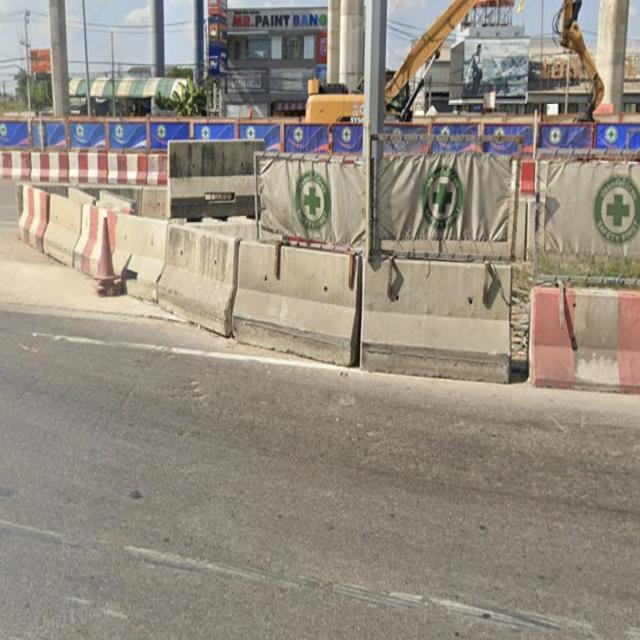fallen_object: (323, 243, 509, 384), (215, 219, 361, 379), (103, 181, 253, 333), (506, 267, 640, 432), (17, 172, 131, 289), (29, 137, 176, 191), (83, 203, 130, 308), (0, 146, 48, 186)
